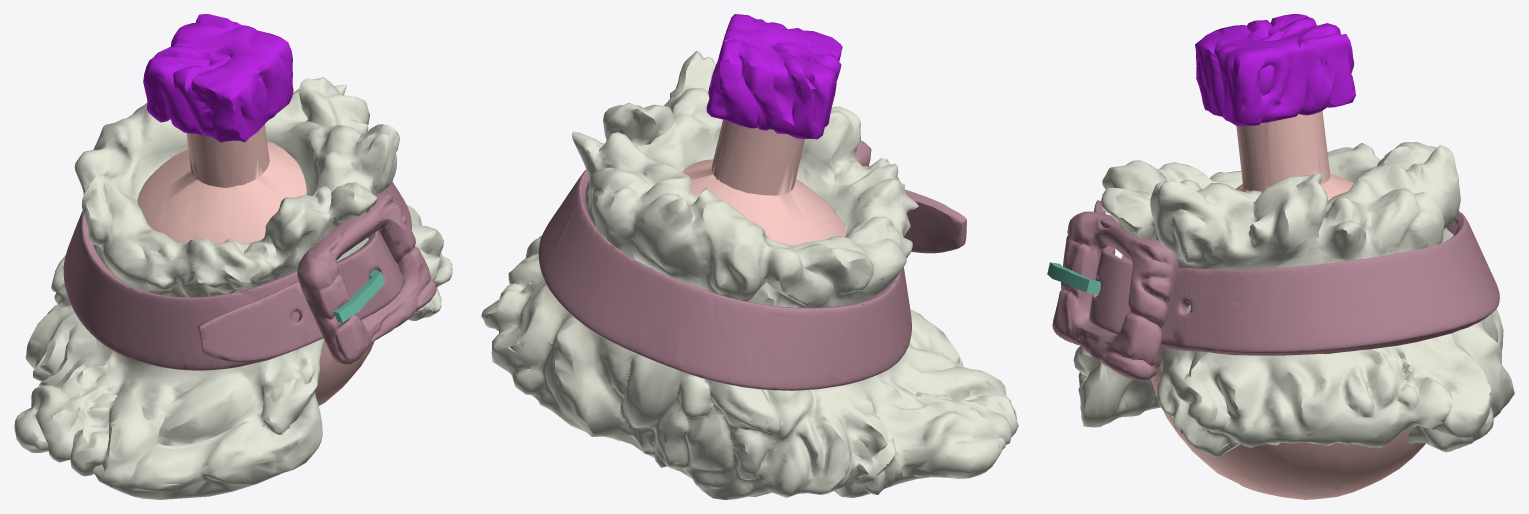
3 renders of one model, left to right at view 1: azimuth 30°, elevation 25°; view 2: azimuth 150°, elevation 25°; view 3: azimuth 270°, elevation 25°, orthographic. The views are drawn at different scales.
Parts seen in each view (by area): view 1: split_parent_0, split_parent_1, split_parent_2, Wood_Vial_Wood_Vial_0.001, Needle_Vial_Needle_Vial_0; view 2: split_parent_0, split_parent_1, Wood_Vial_Wood_Vial_0.001, split_parent_2; view 3: split_parent_0, split_parent_1, split_parent_2, Wood_Vial_Wood_Vial_0.001, Needle_Vial_Needle_Vial_0.
Part boxes in pixels (x1,y1,x2,y2): split_parent_0: (14, 77, 452, 499); split_parent_1: (63, 182, 436, 370); split_parent_2: (137, 124, 374, 405); Wood_Vial_Wood_Vial_0.001: (143, 14, 293, 142); Needle_Vial_Needle_Vial_0: (333, 269, 384, 322); split_parent_0: (481, 51, 1018, 499); split_parent_1: (538, 140, 966, 390); Wood_Vial_Wood_Vial_0.001: (706, 14, 842, 139); split_parent_2: (682, 119, 846, 245); split_parent_0: (1073, 142, 1514, 457); split_parent_1: (1052, 200, 1499, 380); split_parent_2: (1151, 111, 1425, 499); Wood_Vial_Wood_Vial_0.001: (1195, 14, 1355, 126); Needle_Vial_Needle_Vial_0: (1047, 262, 1100, 294).
Size of the model in its own units: 1 by 0.9005 by 0.8684.
